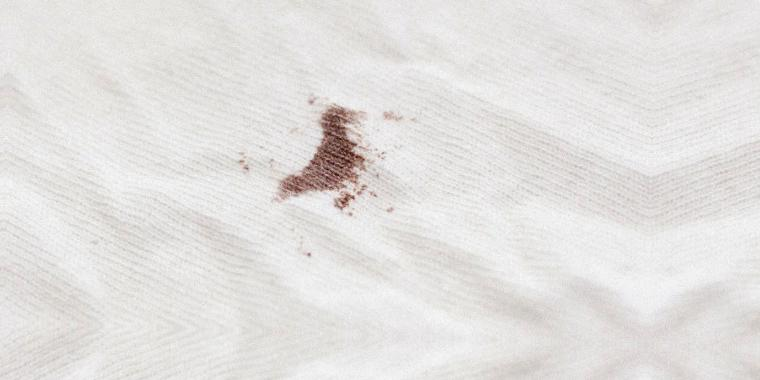stain: (271, 101, 374, 212)
